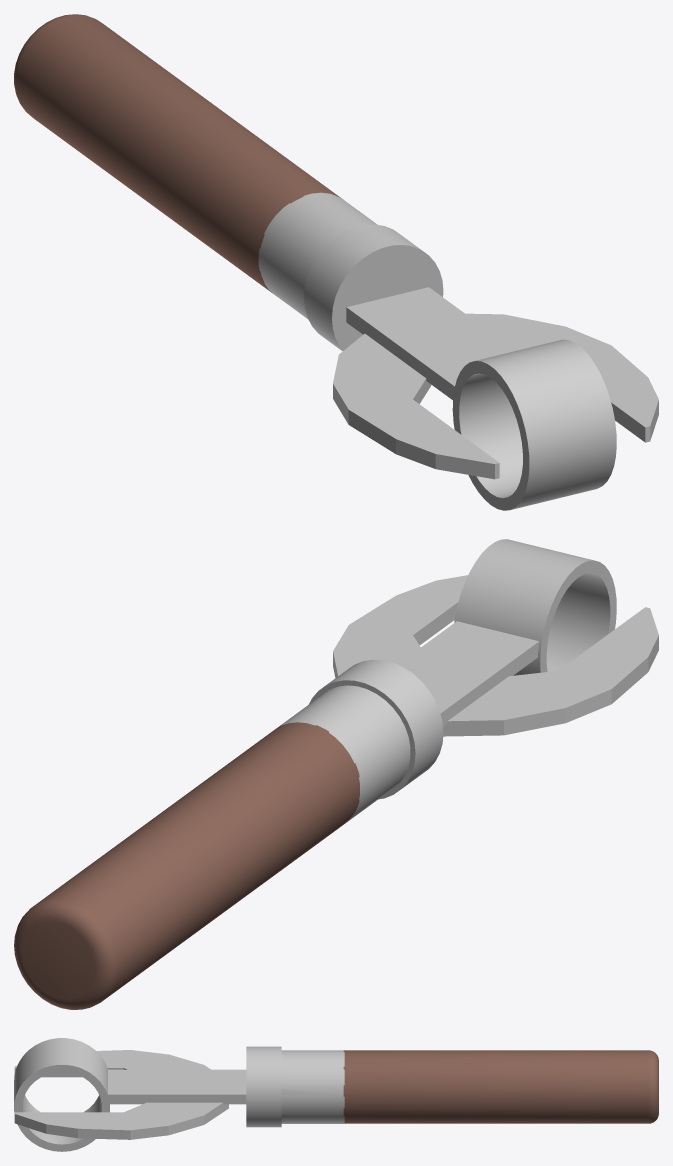
The picture shows the model from 3 angles, top to bottom: view 1: azimuth 30°, elevation 25°; view 2: azimuth 150°, elevation 25°; view 3: azimuth 270°, elevation 25°; orthographic projection. The views are drawn at different scales.
Parts seen in each view (by area): view 1: wood, curled_band, wings, collar, neck; view 2: wood, wings, curled_band, collar, neck; view 3: wood, collar, wings, curled_band, neck.
Boxes of the visible parts, x1,y1,x2,y2 form: wood: [14, 14, 343, 293]; curled_band: [452, 339, 616, 510]; wings: [333, 313, 658, 479]; collar: [258, 192, 443, 351]; neck: [346, 287, 515, 399]; wood: [14, 722, 359, 1009]; wings: [333, 575, 658, 736]; curled_band: [454, 539, 616, 675]; collar: [275, 659, 443, 824]; neck: [397, 621, 539, 726]; wood: [343, 1050, 658, 1123]; collar: [246, 1046, 344, 1127]; wings: [14, 1050, 228, 1139]; curled_band: [14, 1038, 109, 1151]; neck: [108, 1069, 246, 1104].
Size of the model in its own units: 0.0542 by 0.0277 by 0.1837.
